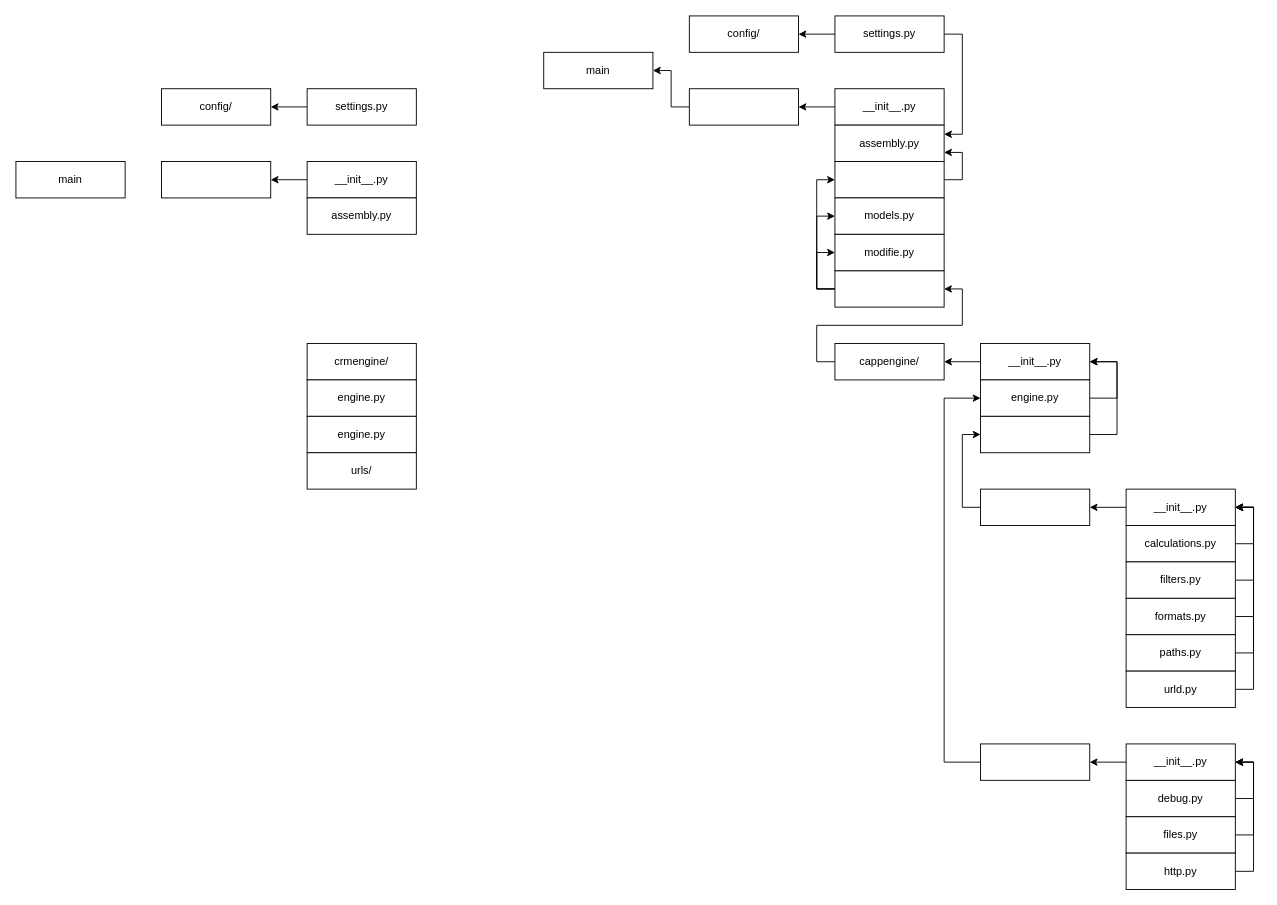
Image size: 1277x905. Some labels were removed from this diagram. Here are the shapes that lost their labels. From the top down, the centre of each, then its label:
(x=743, y=106): catalogapp/
(x=216, y=179): retailcrm/
(x=889, y=179): catalogs.py
(x=889, y=288): base.py
(x=1035, y=434): entities.py
(x=1035, y=507): templates/
(x=1035, y=761): utils/
